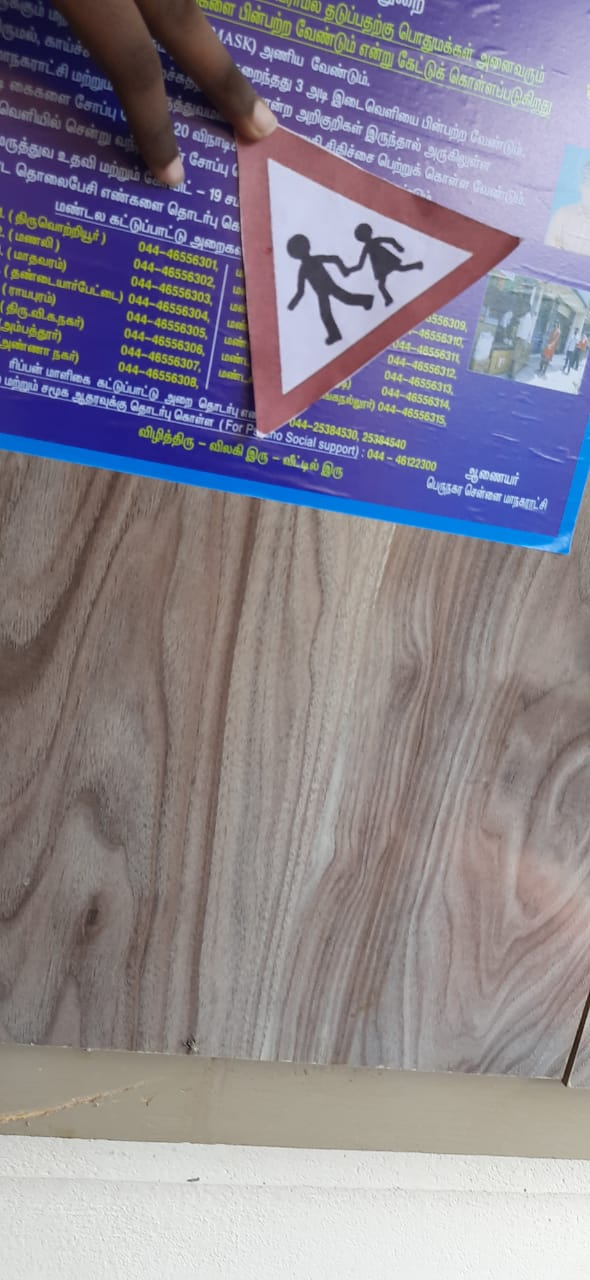SCHOOL ZONE: (228, 104, 540, 425)
